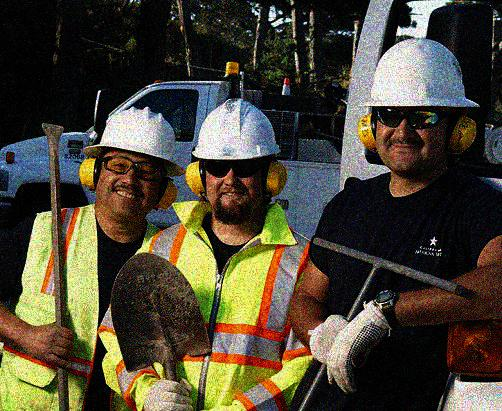helmet: (357, 40, 482, 173), (81, 105, 186, 218), (188, 99, 281, 223)
